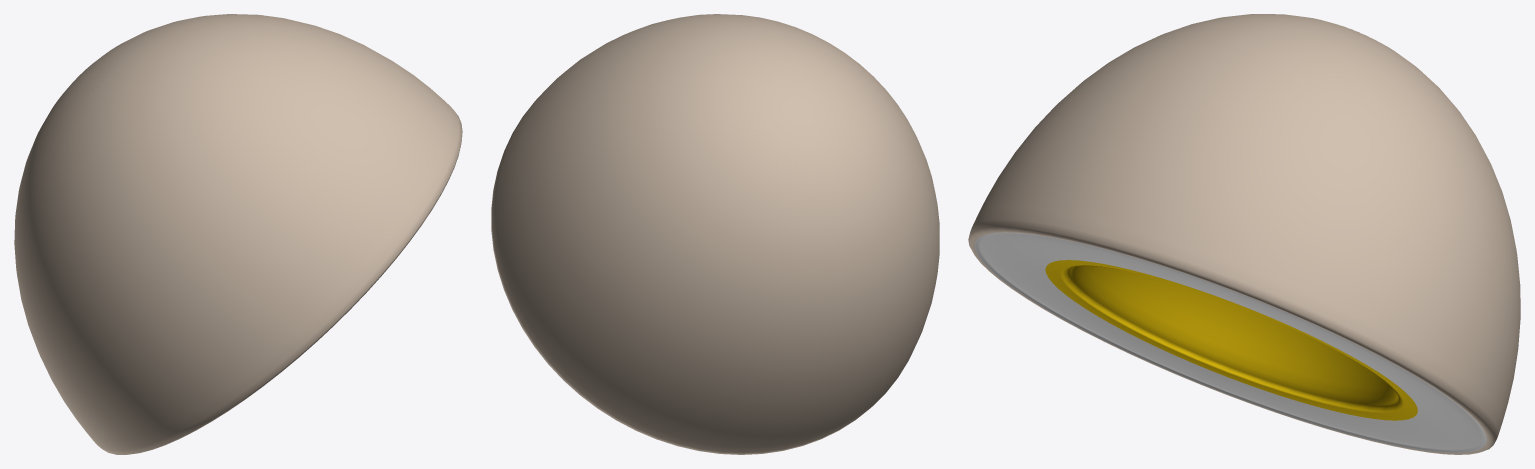
The picture shows the model from 3 angles, left to right: view 1: azimuth 30°, elevation 25°; view 2: azimuth 150°, elevation 25°; view 3: azimuth 270°, elevation 25°; orthographic projection. The views are drawn at different scales.
Visible parts, largest first — view 1: Sphere.027; view 2: Sphere.027; view 3: Sphere.027.
Boxes of the visible parts, bbox=[...] form: Sphere.027: bbox=[14, 14, 462, 454]; Sphere.027: bbox=[491, 14, 939, 454]; Sphere.027: bbox=[968, 14, 1520, 454].
Size of the model in its own units: 0.8706 by 0.8118 by 0.9006.
